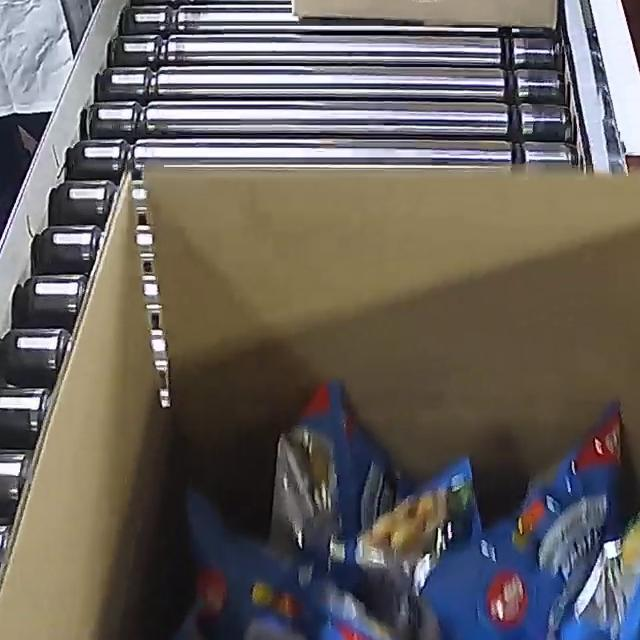paprika: (103, 377, 640, 640)
